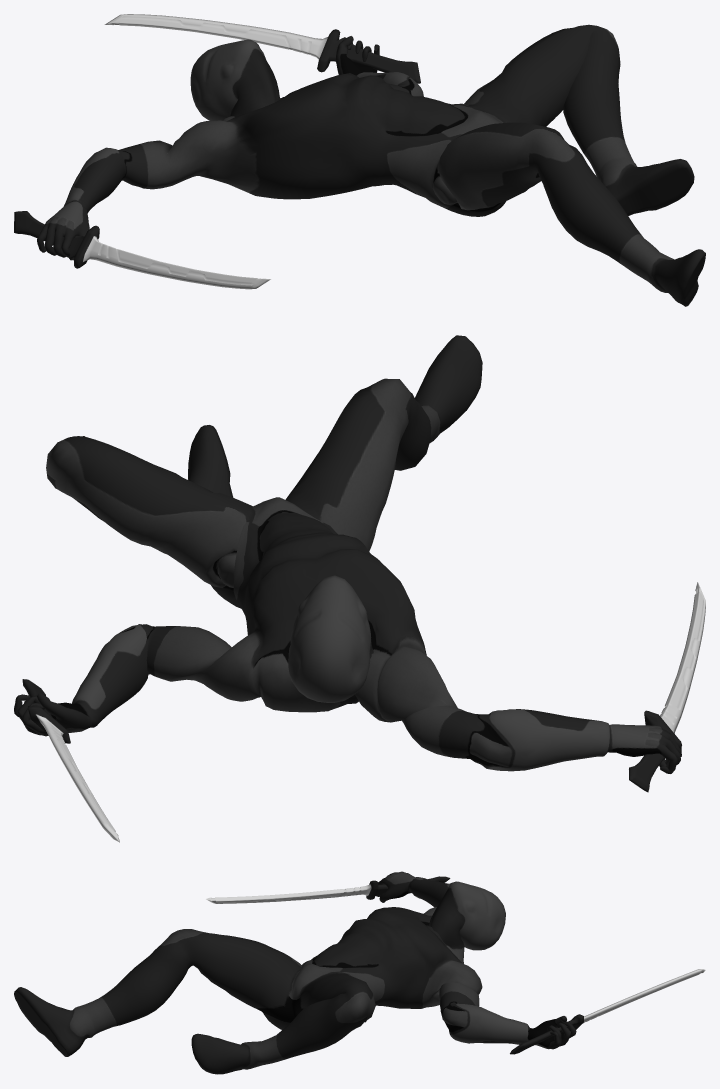
3 views of the same model, one above another, from view 1: azimuth 30°, elevation 25°; view 2: azimuth 150°, elevation 25°; view 3: azimuth 270°, elevation 25° (orthographic). The views are drawn at different scales.
Visible parts, largest first — view 1: Cyborg_Ninja_Killer, Sword_l, Sword_l001; view 2: Cyborg_Ninja_Killer, Sword_l001, Sword_l; view 3: Cyborg_Ninja_Killer, Sword_l001, Sword_l.
Part boxes in pixels (x1,y1,x2,y2): Cyborg_Ninja_Killer: (37, 24, 705, 306); Sword_l: (104, 14, 420, 83); Sword_l001: (14, 211, 270, 289); Cyborg_Ninja_Killer: (14, 335, 681, 773); Sword_l001: (629, 582, 705, 792); Sword_l: (22, 679, 119, 842); Cyborg_Ninja_Killer: (14, 871, 576, 1074); Sword_l001: (206, 876, 450, 903); Sword_l: (510, 969, 705, 1054).
Size of the model in its own units: 168 by 39.48 by 235.
2 materials, 2 textured.
